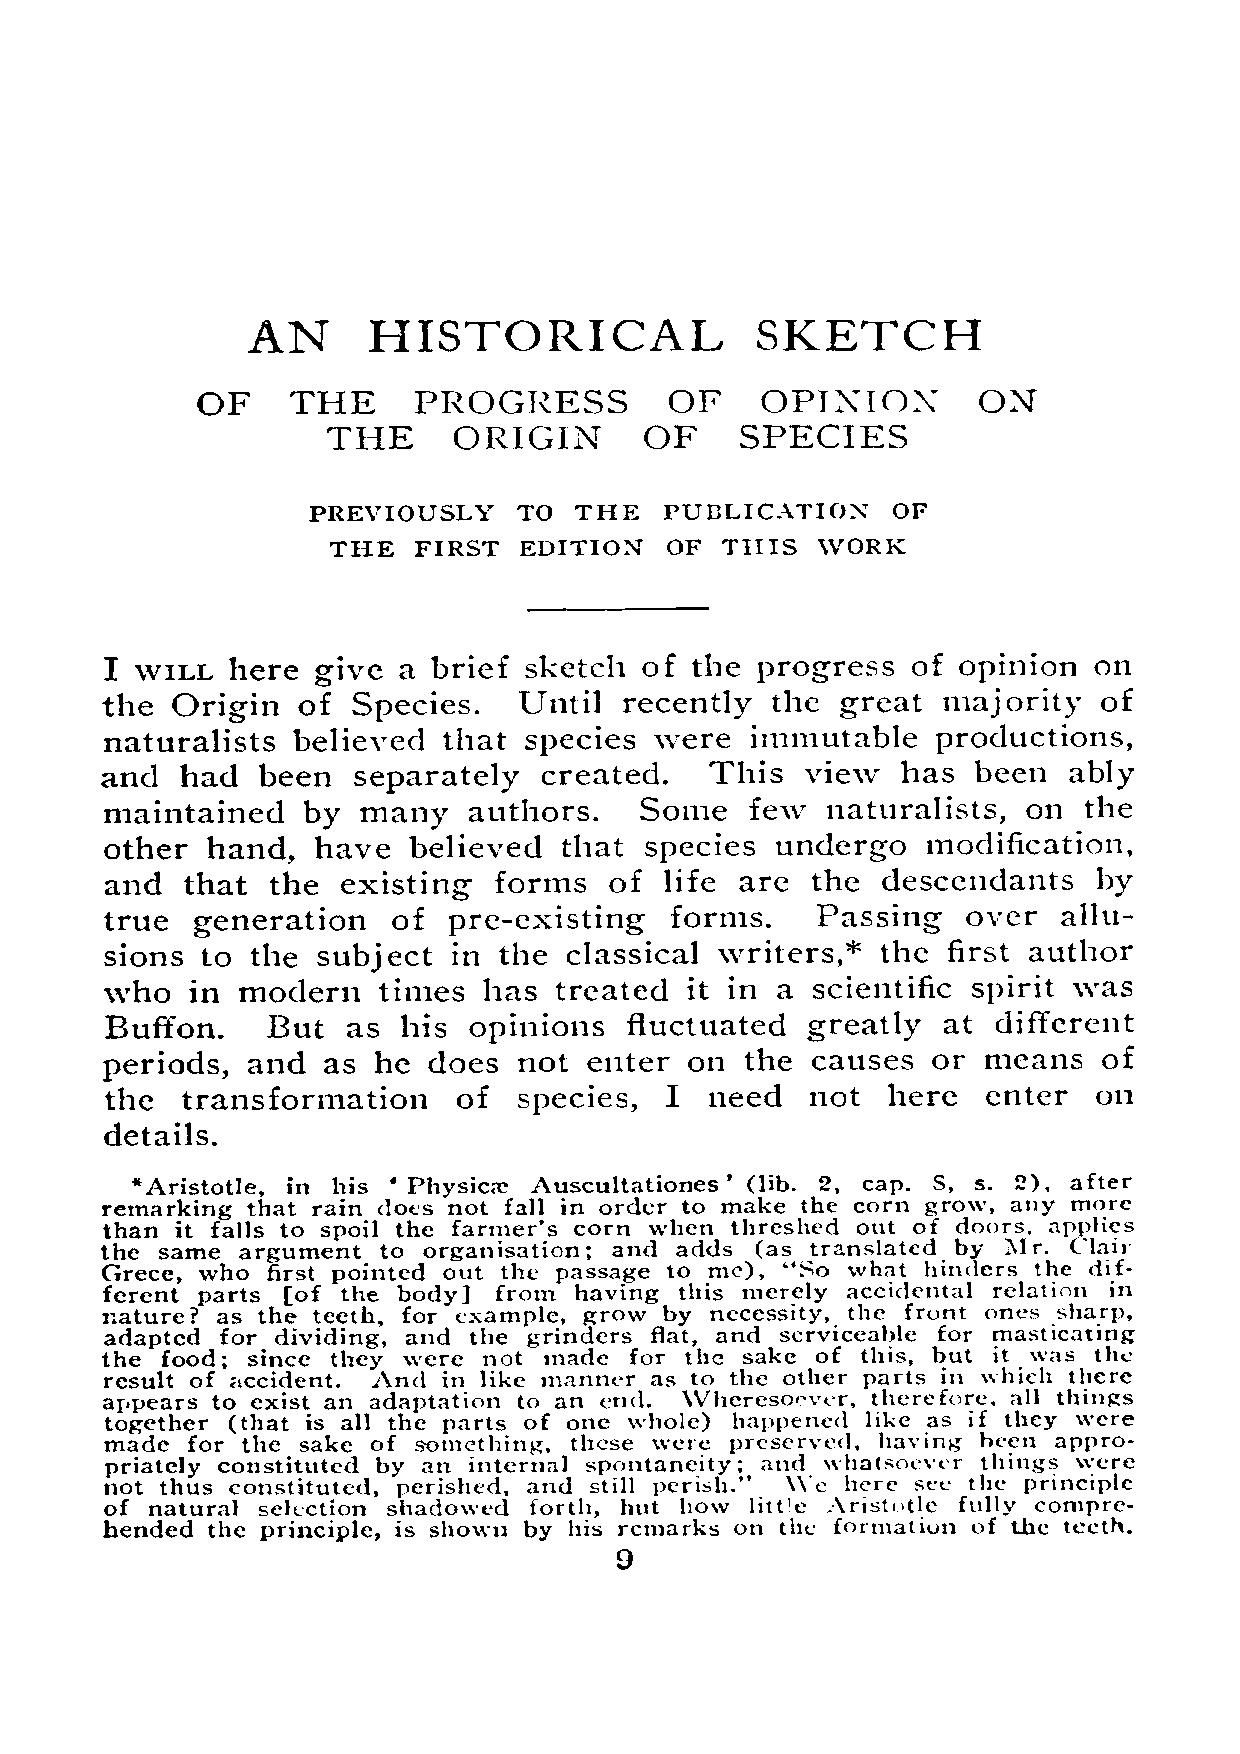chapter: (191, 314, 1039, 454), (303, 497, 931, 560)
content: (101, 648, 1138, 1542)
content_pagenumber: (612, 1546, 637, 1571)
